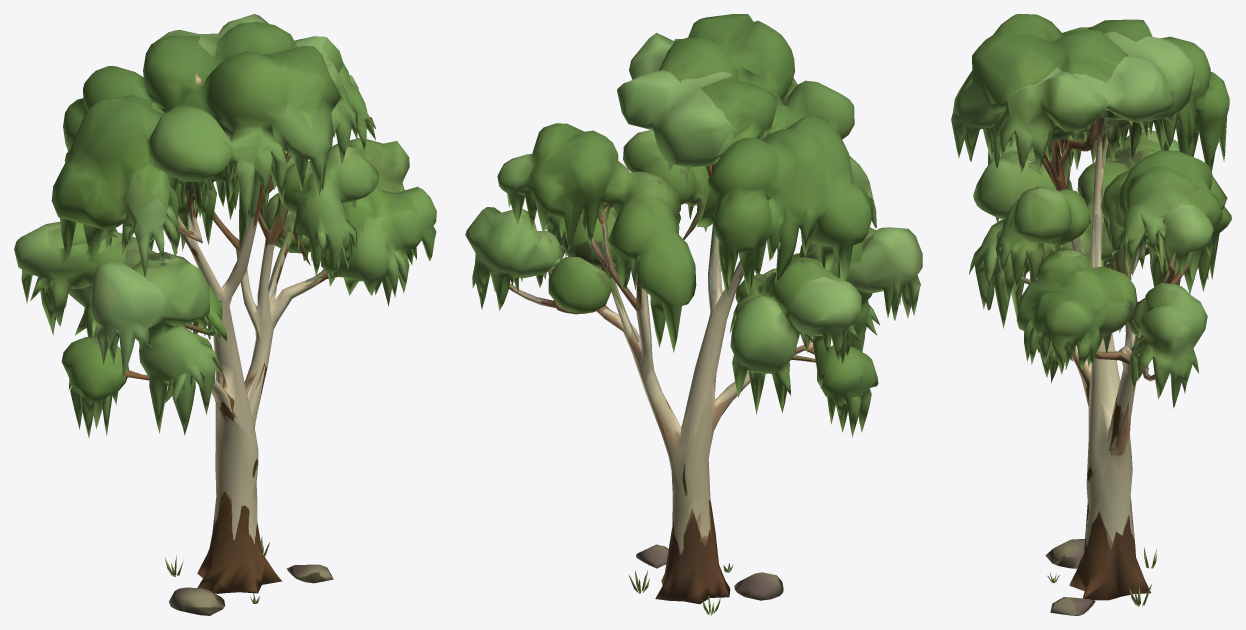
The model's file is Eucalyptus 02.fbx.
The picture shows the model from 3 angles, left to right: view 1: azimuth 30°, elevation 25°; view 2: azimuth 150°, elevation 25°; view 3: azimuth 270°, elevation 25°; orthographic projection. The views are drawn at different scales.
Parts seen in each view (by area): view 1: Mesh_0; view 2: Mesh_0; view 3: Mesh_0.
Boxes of the visible parts, x1=… form: Mesh_0: x1=14, y1=14, x2=436, y2=615; Mesh_0: x1=465, y1=14, x2=922, y2=615; Mesh_0: x1=951, y1=14, x2=1231, y2=615.
Size of the model in its own units: 140 by 190 by 86.38.
